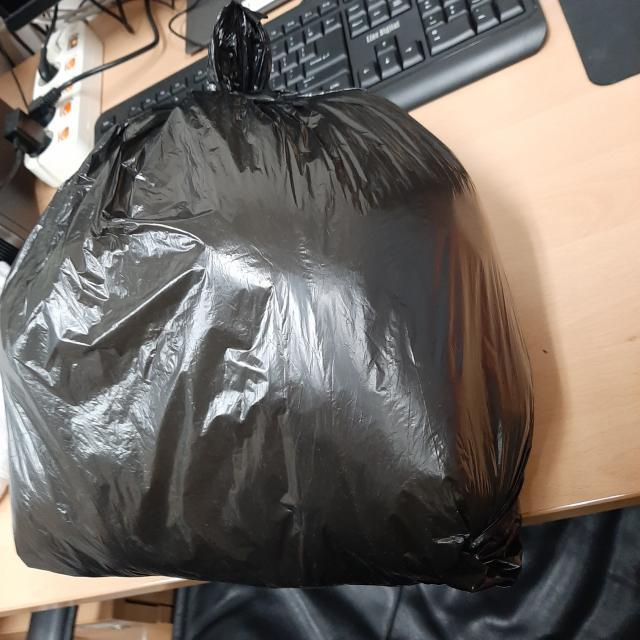black_bag: (0, 0, 536, 597)
